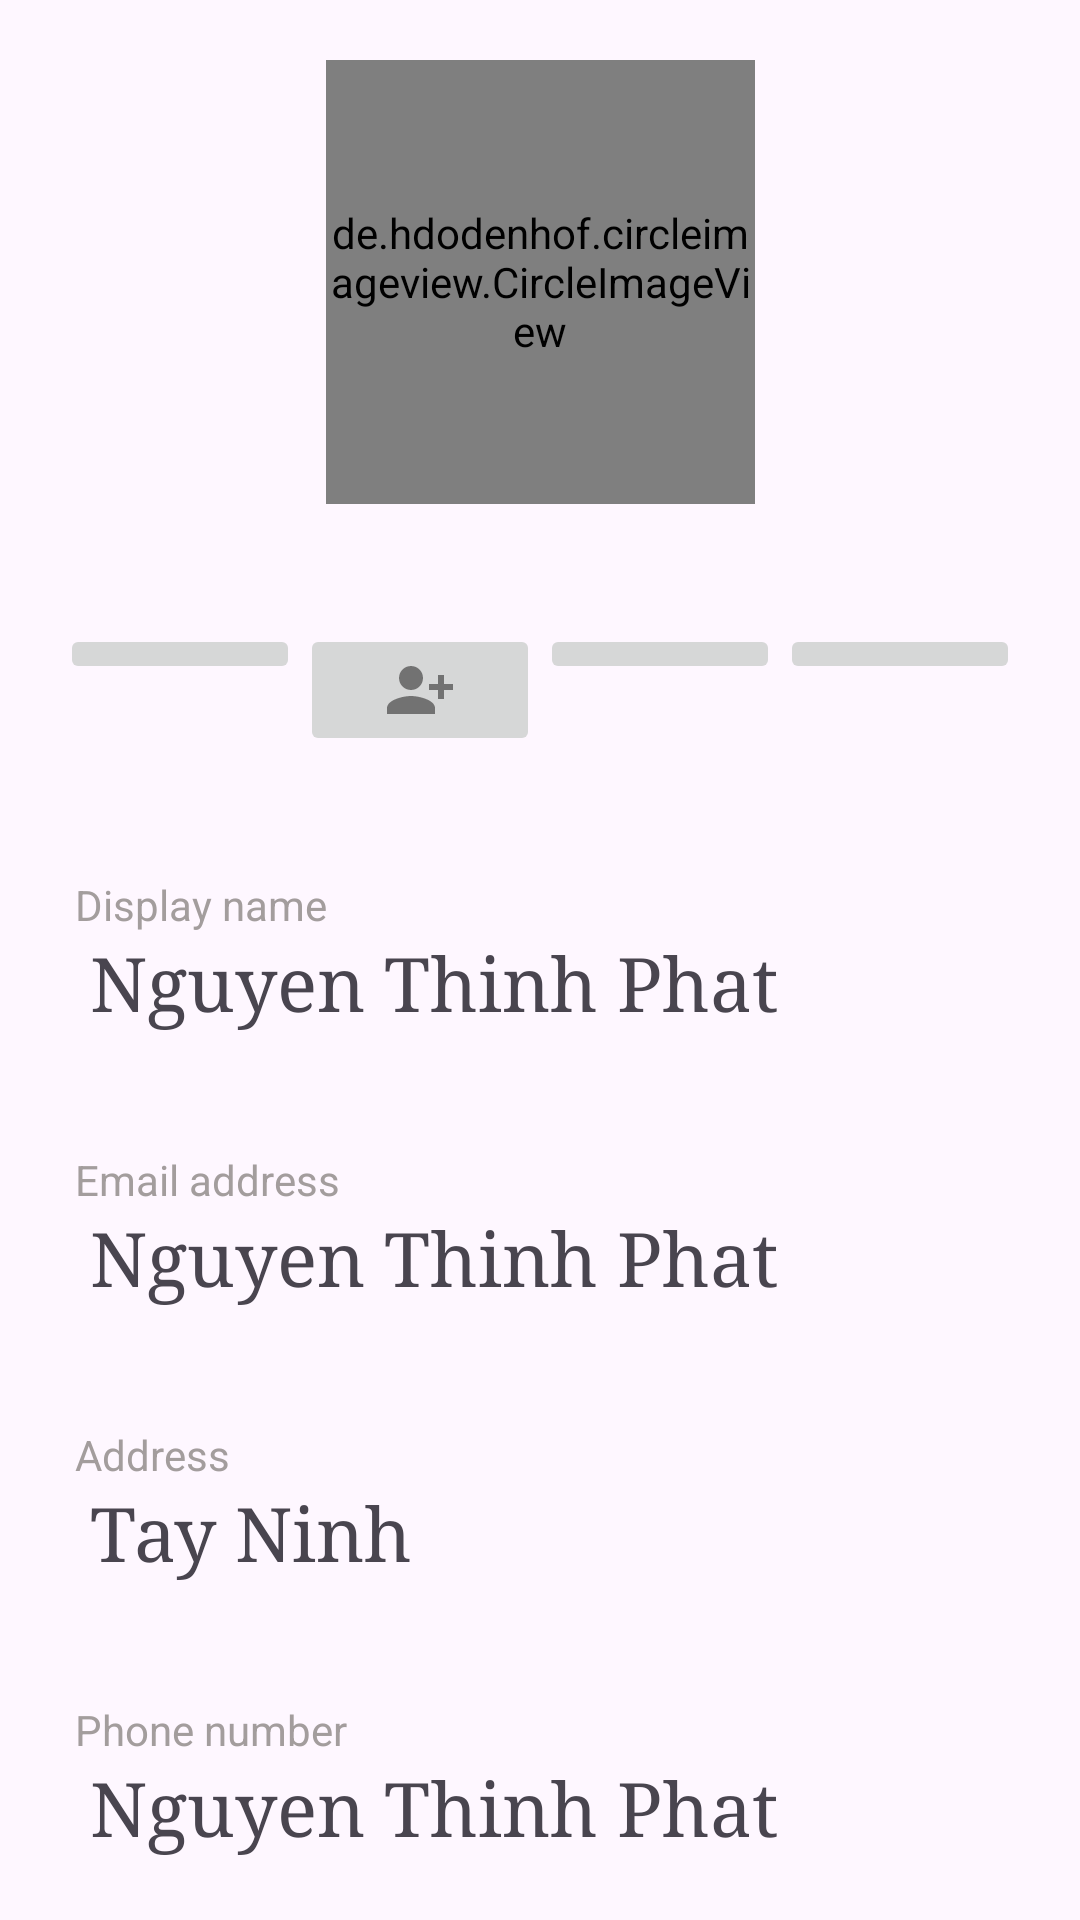

Locate icon controls on the screen. Image size 1080px x 1920px, boxes as (x1, y1, x2, y2).
person add: (312, 642, 528, 738)
